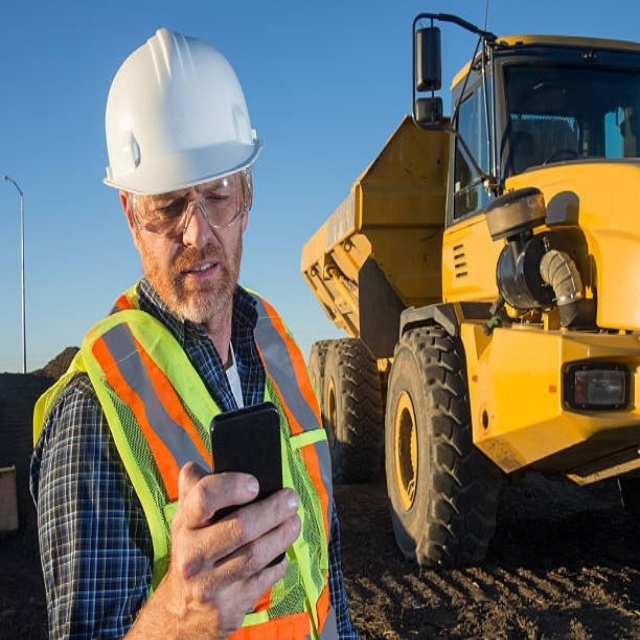Gafas: (127, 168, 253, 236)
Sin_guantes: (162, 457, 305, 636)
Sin_mascara: (174, 252, 226, 303)
